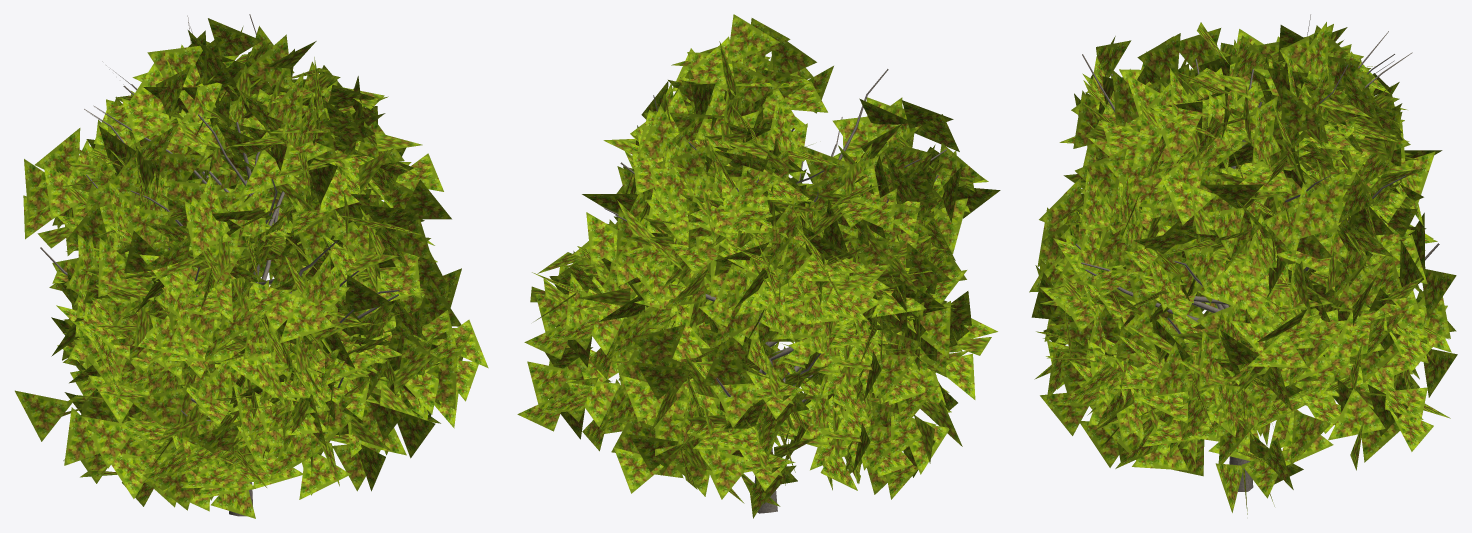
Rendered from Acer_Saccharum_Spring_Adult.glb.
3 renders of one model, left to right at view 1: azimuth 30°, elevation 25°; view 2: azimuth 150°, elevation 25°; view 3: azimuth 270°, elevation 25°, orthographic. The views are drawn at different scales.
Visible parts, largest first — view 1: Acer_Saccharum_Spring_Adult__LOD3; view 2: Acer_Saccharum_Spring_Adult__LOD3; view 3: Acer_Saccharum_Spring_Adult__LOD3.
Part boxes in pixels (bbox=[...]): Acer_Saccharum_Spring_Adult__LOD3: bbox=[15, 14, 488, 518]; Acer_Saccharum_Spring_Adult__LOD3: bbox=[517, 14, 1000, 518]; Acer_Saccharum_Spring_Adult__LOD3: bbox=[1029, 14, 1457, 514].
Bounding box in the file's own units: 13.93 × 15.24 × 12.25.
Materials: 2 (2 with a texture image).
